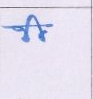i_matra: (30, 14, 47, 41)
